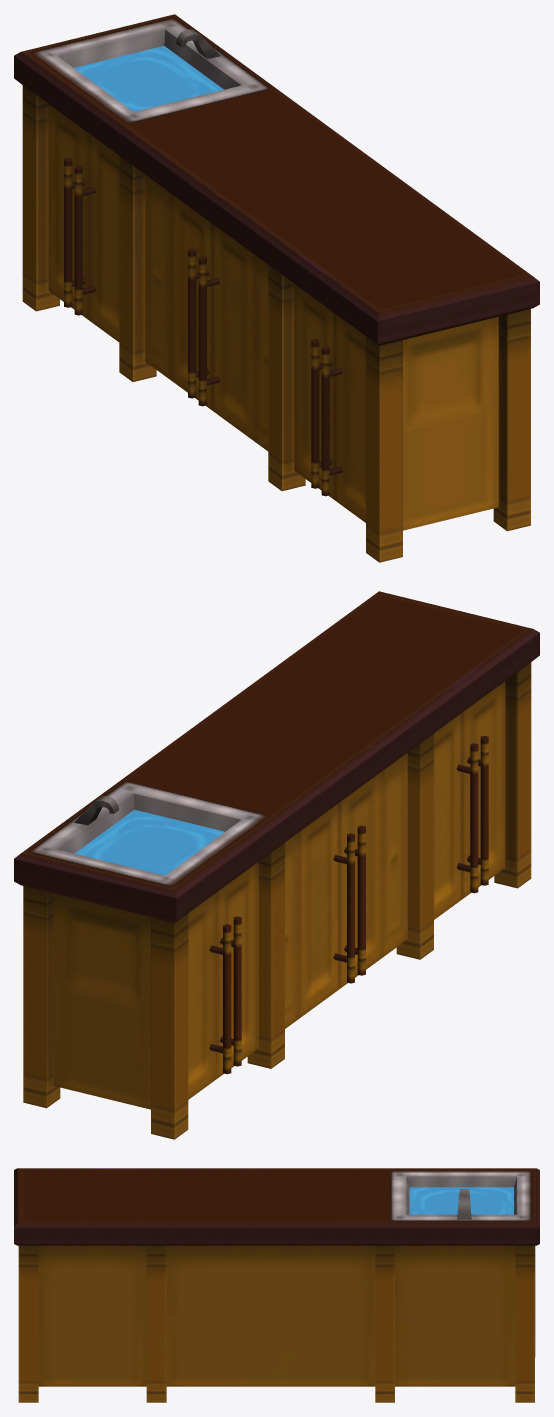
The model's file is Kitchen_Cabinet_02_clear.gltf.
3 views of the same model, one above another, from view 1: azimuth 30°, elevation 25°; view 2: azimuth 150°, elevation 25°; view 3: azimuth 270°, elevation 25° (orthographic). The views are drawn at different scales.
Parts seen in each view (by area): view 1: Kitchen_Cabinet_02_clear; view 2: Kitchen_Cabinet_02_clear; view 3: Kitchen_Cabinet_02_clear.
Part boxes in pixels (<box>): Kitchen_Cabinet_02_clear: <box>14,14,539,562</box>; Kitchen_Cabinet_02_clear: <box>14,591,539,1139</box>; Kitchen_Cabinet_02_clear: <box>14,1168,539,1402</box>.
Size of the model in its own units: 22.56 by 36.17 by 86.01.
Materials: 1 (1 with a texture image).
